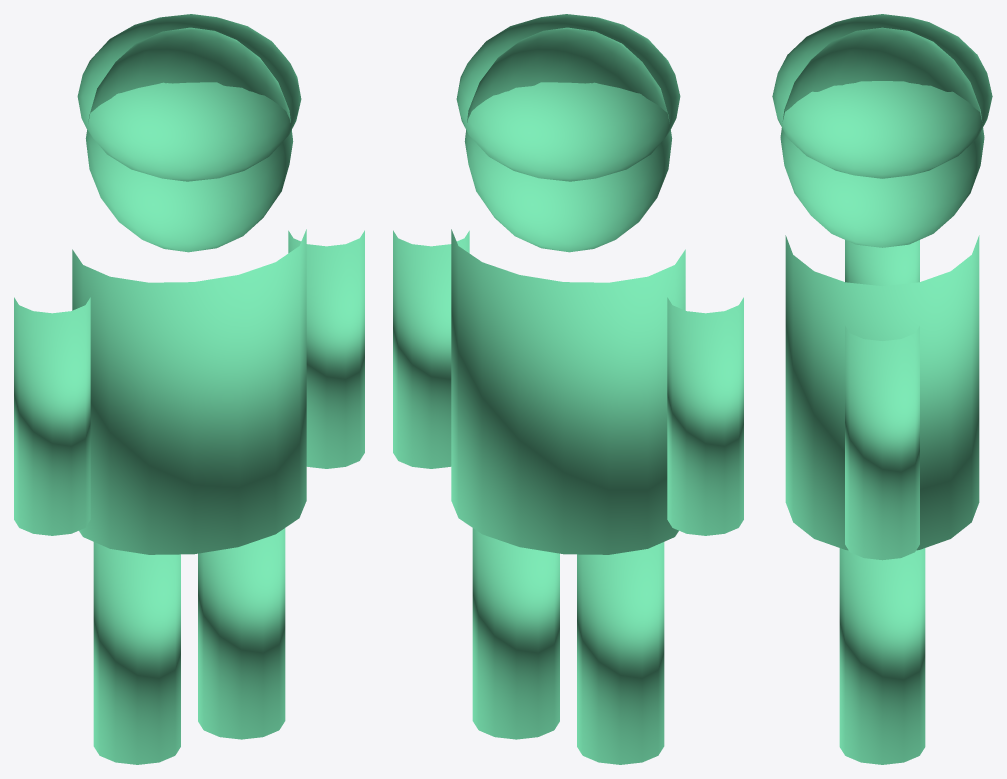
File: sam.glb
3 renders of one model, left to right at view 1: azimuth 30°, elevation 25°; view 2: azimuth 150°, elevation 25°; view 3: azimuth 270°, elevation 25°, orthographic.
Parts seen in each view (by area): view 1: YoungAdultMaleMesh; view 2: YoungAdultMaleMesh; view 3: YoungAdultMaleMesh.
Boxes of the visible parts, left/top/right/bottom form: YoungAdultMaleMesh: left=14, top=14, right=364, bottom=764; YoungAdultMaleMesh: left=393, top=14, right=743, bottom=764; YoungAdultMaleMesh: left=772, top=14, right=992, bottom=764.
Bounding box in the file's own units: 1.44 × 2.85 × 0.82.
